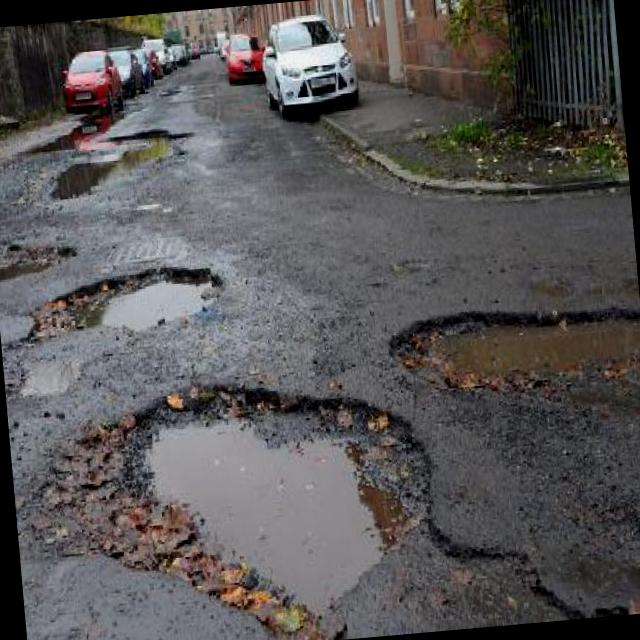pothole: (30, 355, 455, 640), (382, 290, 640, 408), (13, 256, 230, 351), (104, 121, 194, 172), (43, 150, 114, 207), (0, 234, 77, 286)
